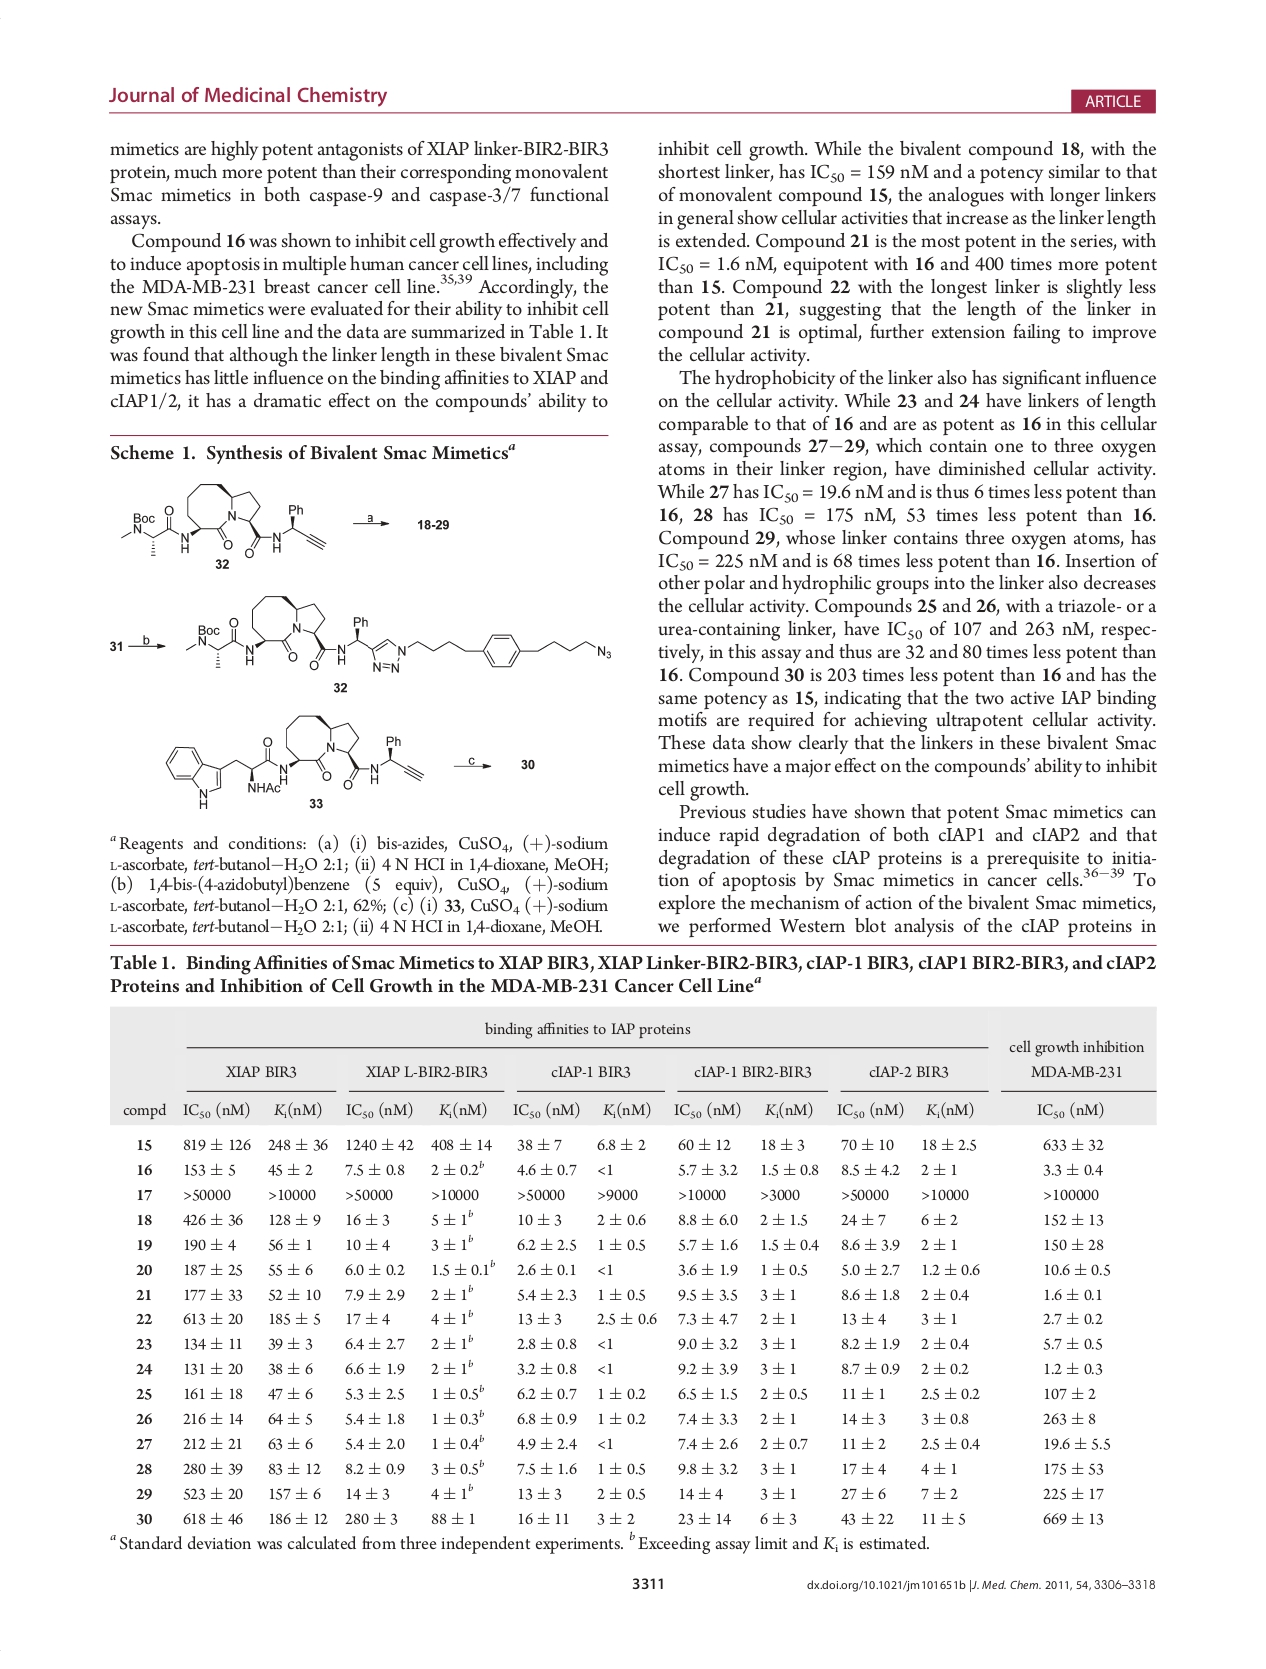exist_molecular: (184, 592, 616, 673), (162, 710, 424, 810), (118, 481, 328, 559)
